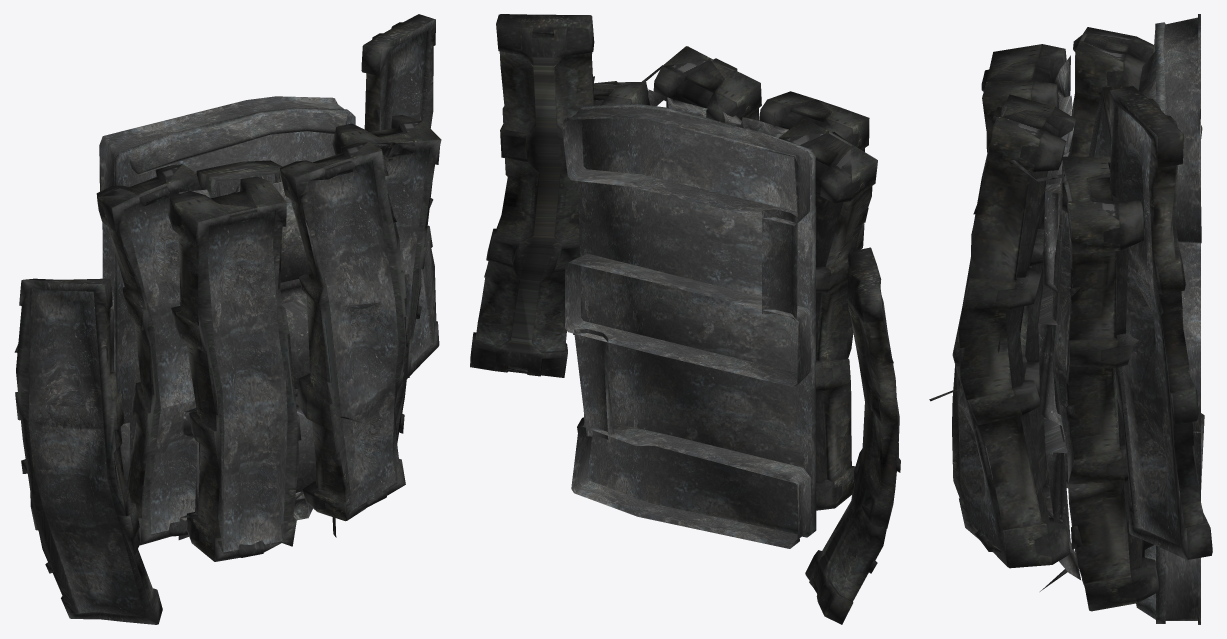
The model's file is p_glo_bomb_stack_d_LOD1.obj.
3 views of the same model, side by side, from view 1: azimuth 30°, elevation 25°; view 2: azimuth 150°, elevation 25°; view 3: azimuth 270°, elevation 25° (orthographic). The views are drawn at different scales.
Visible parts, largest first — view 1: metal_charred, mtl_p_glo_bomb_stack_02; view 2: metal_charred, mtl_p_glo_bomb_stack_02; view 3: mtl_p_glo_bomb_stack_02, metal_charred.
Boxes of the visible parts, <box> form: metal_charred: <box>28,31,430,617</box>; mtl_p_glo_bomb_stack_02: <box>14,14,441,624</box>; metal_charred: <box>561,89,898,548</box>; mtl_p_glo_bomb_stack_02: <box>470,14,900,624</box>; mtl_p_glo_bomb_stack_02: <box>929,27,1212,611</box>; metal_charred: <box>958,14,1204,624</box>.
Size of the model in its own units: 234 by 275 by 111.
